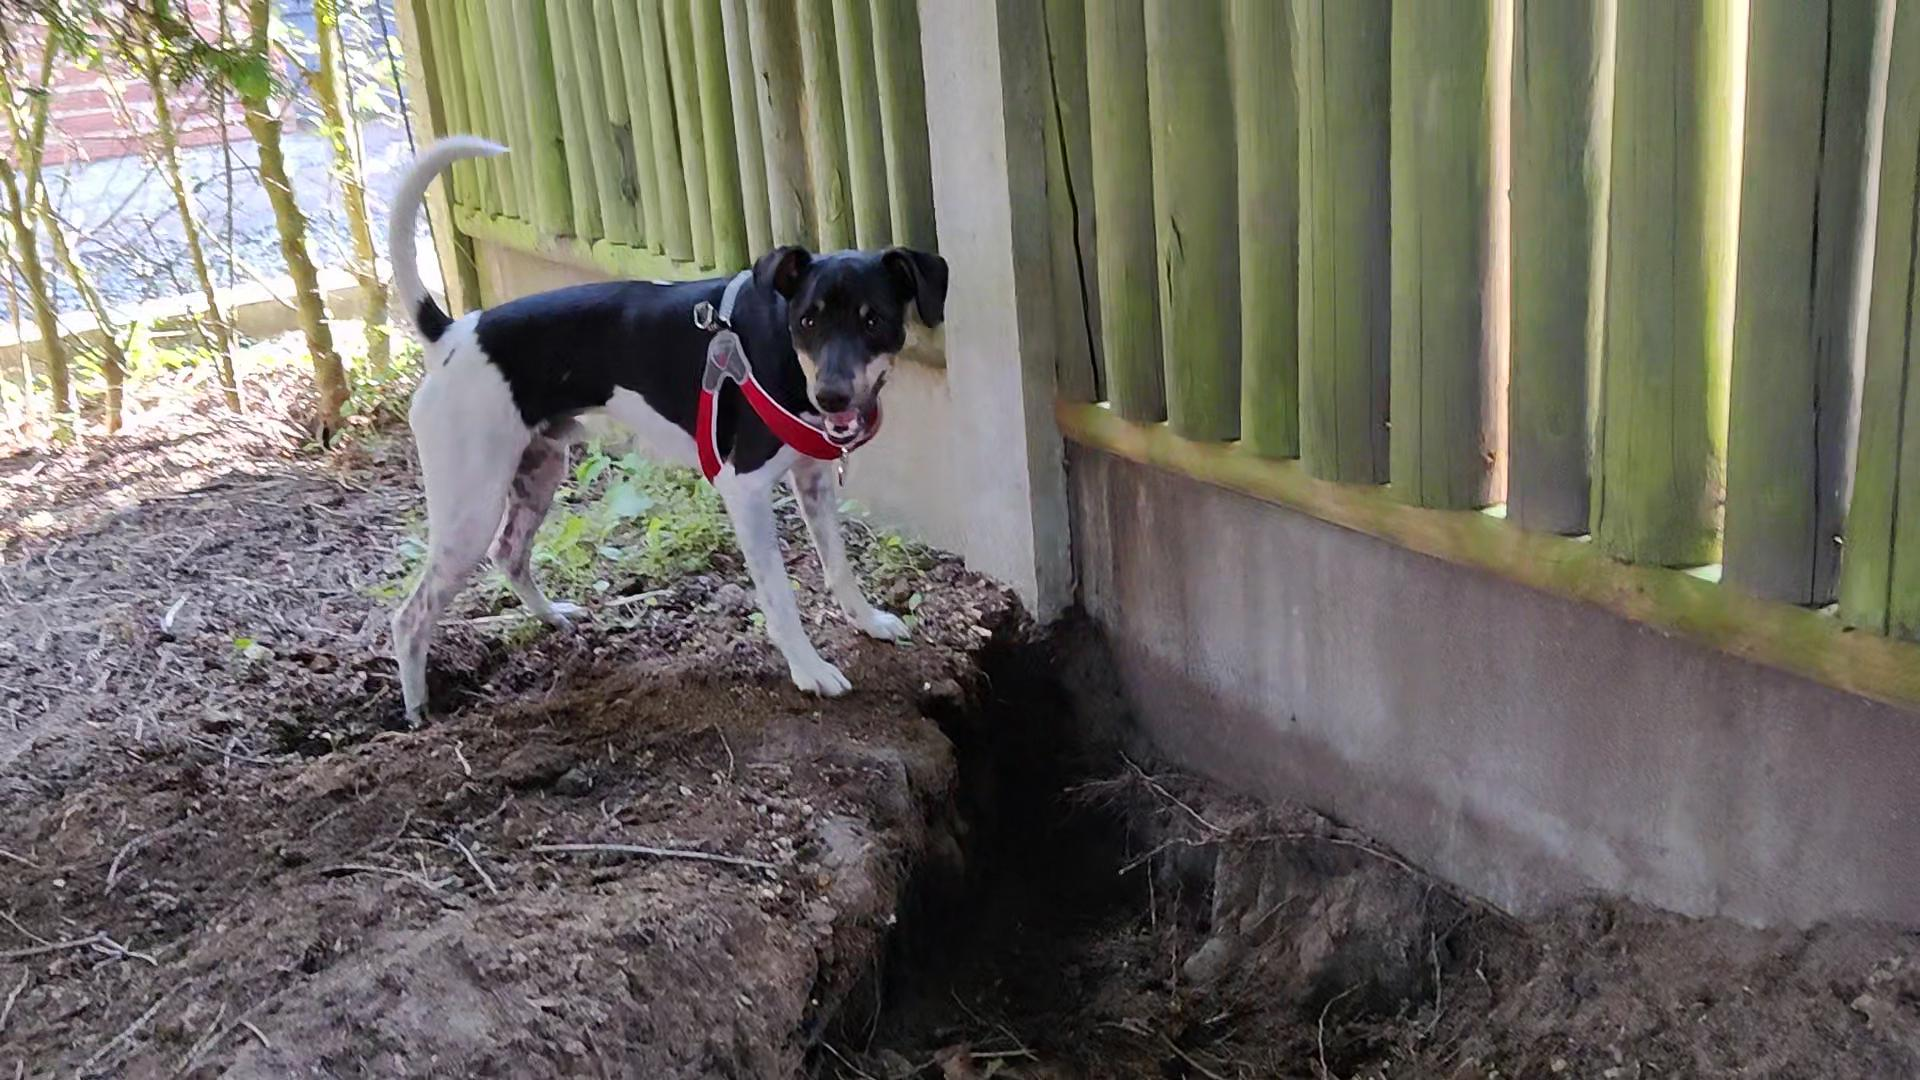Dog: (371, 125, 976, 742)
